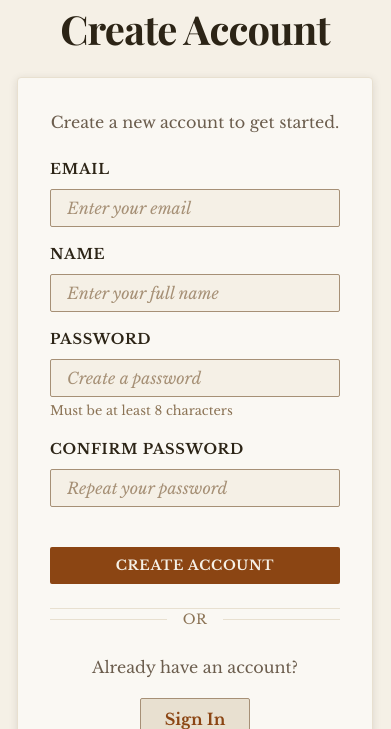
Test: Register › form validation › should show error when name is empty
Type "test@example.com" into the field with id "email" at (195, 208), box [50,189,340,227]
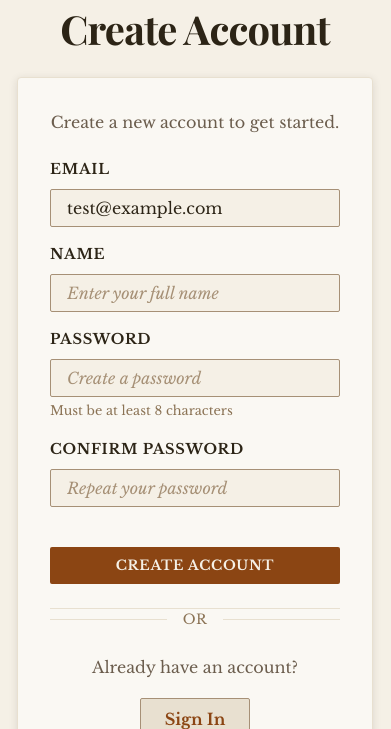
Submit the form, box [50,158,340,584]
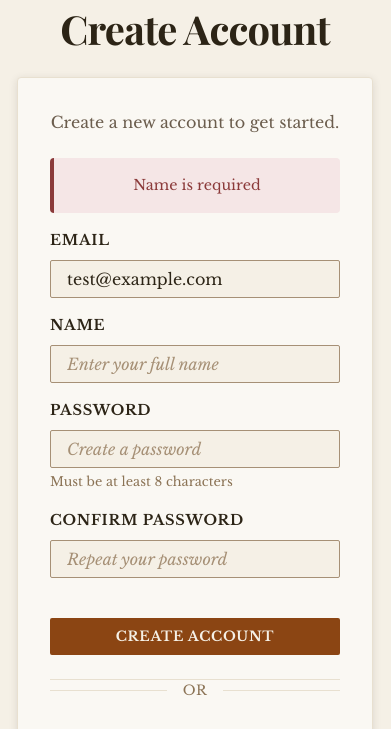
Now the text "Name is required" is shown, box [50,158,340,213]
